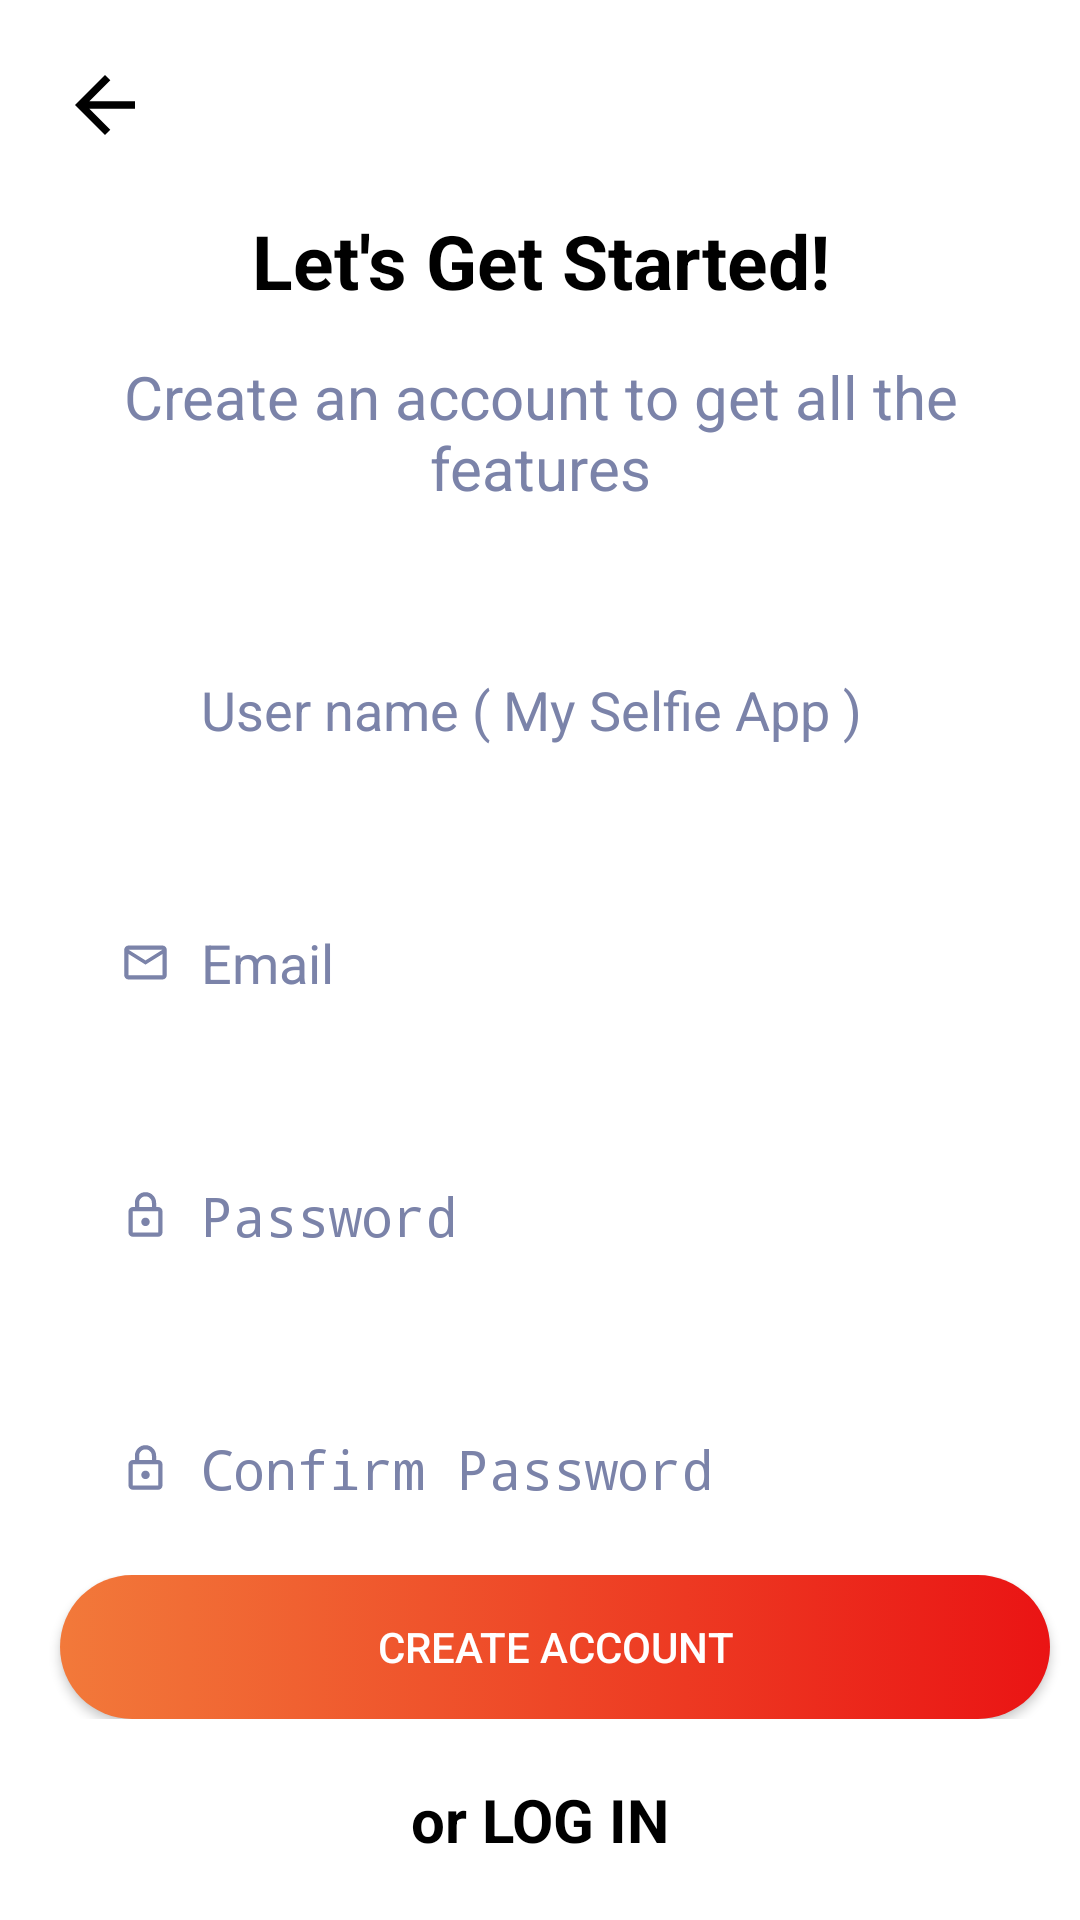

Screen size 1080 x 1920. Icon name, then its box in pixels as (x1, y1, x2, y2):
arrow back: (75, 75, 135, 135)
lock: (128, 1192, 163, 1237), (128, 1445, 163, 1490)
